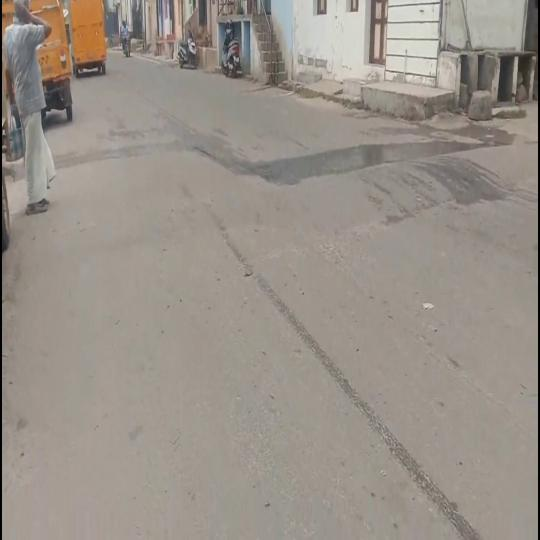Speed Bump: (170, 139, 540, 238)
